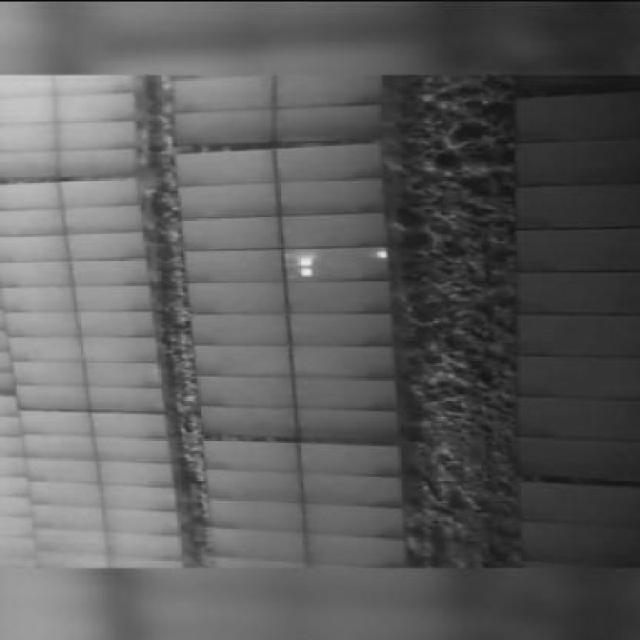hotspot: (374, 250, 388, 258)
